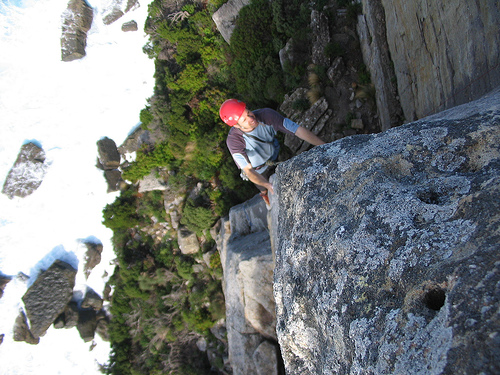helmet: (217, 97, 245, 122)
